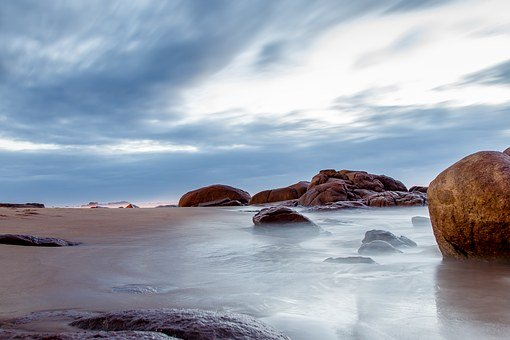sea: (13, 189, 495, 340)
sky: (2, 2, 504, 161)
stone: (216, 170, 510, 250)
